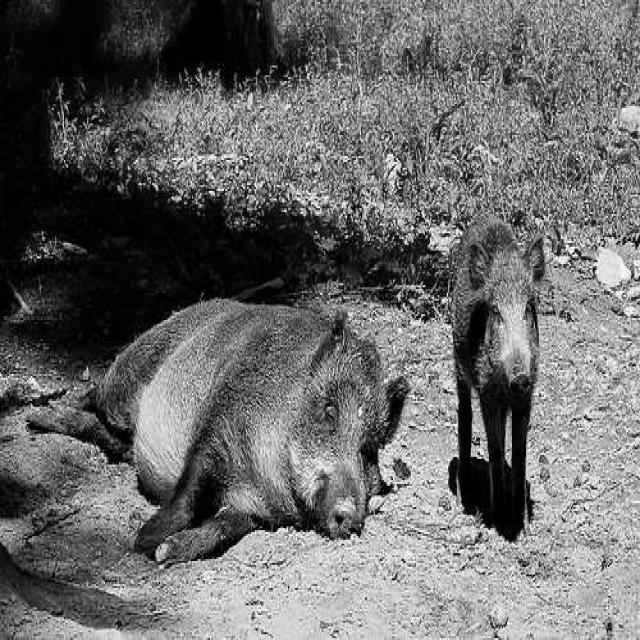boar: (29, 301, 410, 565), (451, 214, 543, 530)
